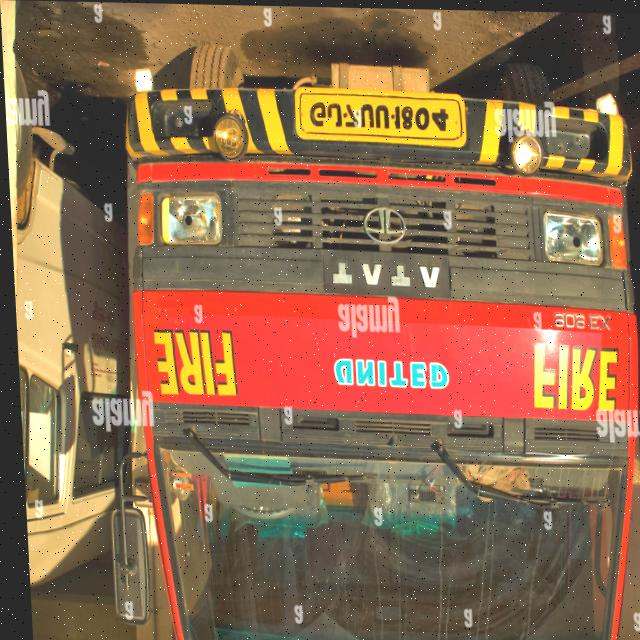plate: (291, 88, 466, 142)
